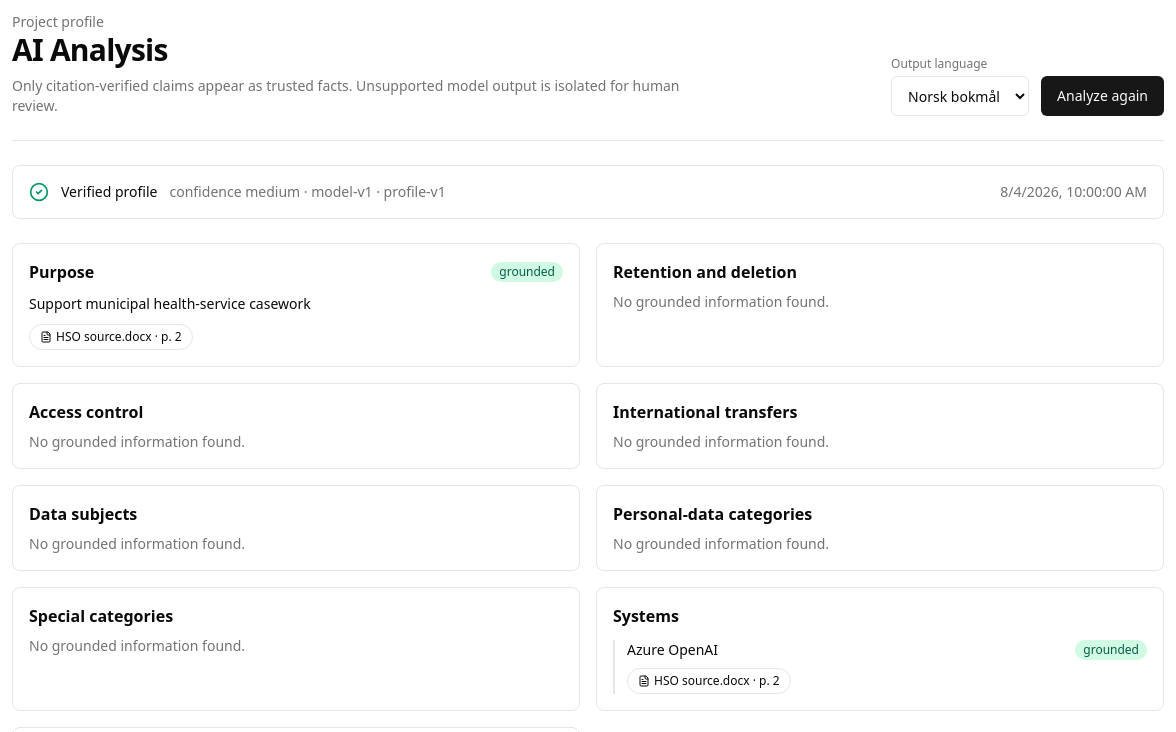
Analysis › renders trusted claims, gaps, questions, rejected claims, and citation evidence
The width and height of the screenshot is (1176, 732).
expect the text "Azure OpenAI" is shown: met, box [627, 640, 718, 660]
Click the button "HSO source.docx · p. 2" below "Purpose".
click(111, 337)  # box [29, 324, 193, 350]
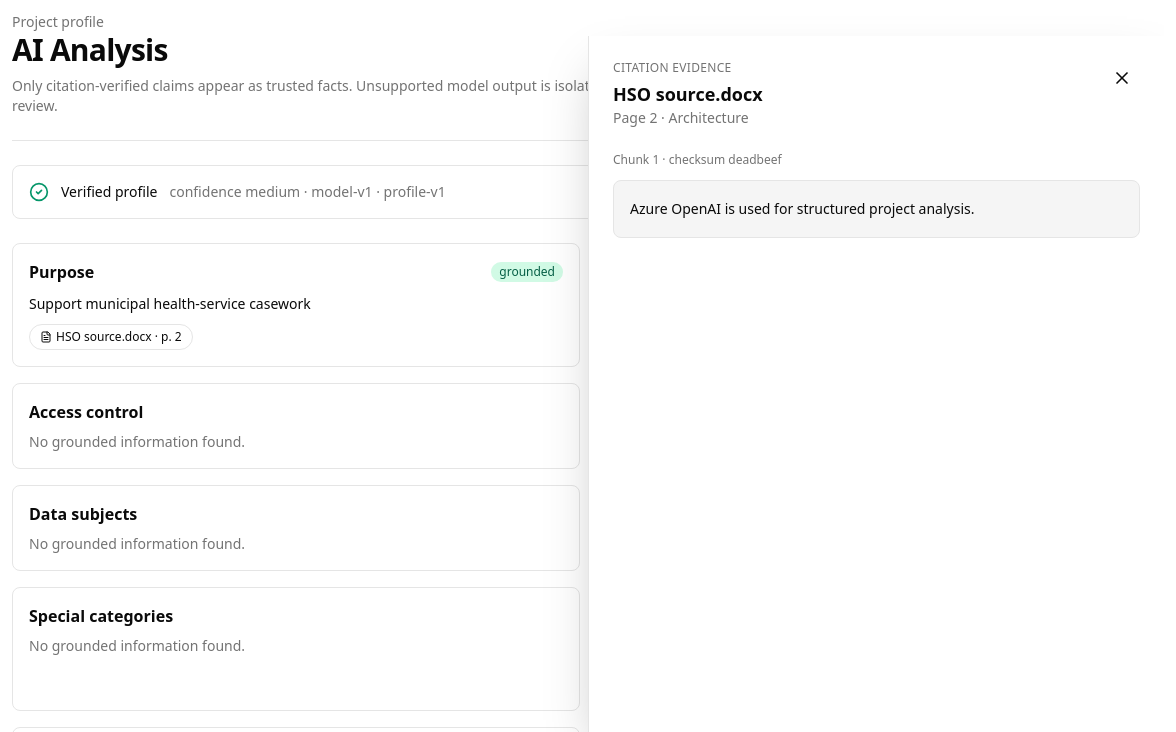
expect the text "Azure OpenAI is used for structured project analysis." is shown: met, box [613, 180, 1140, 238]
expect the button named "Close citation" is shown: met, box [1104, 60, 1140, 96]
